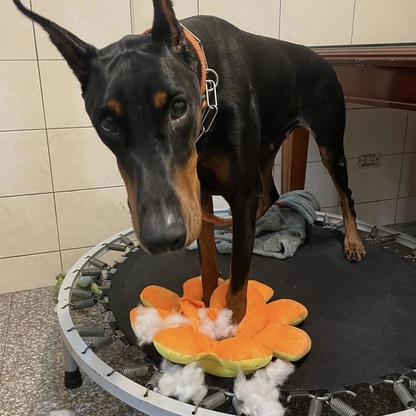doberman: (18, 7, 376, 323)
